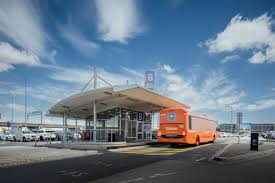bus: (158, 106, 220, 147)
